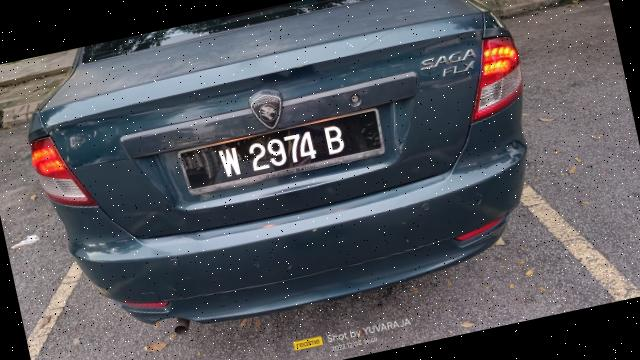License_Plate: (182, 112, 380, 193)
